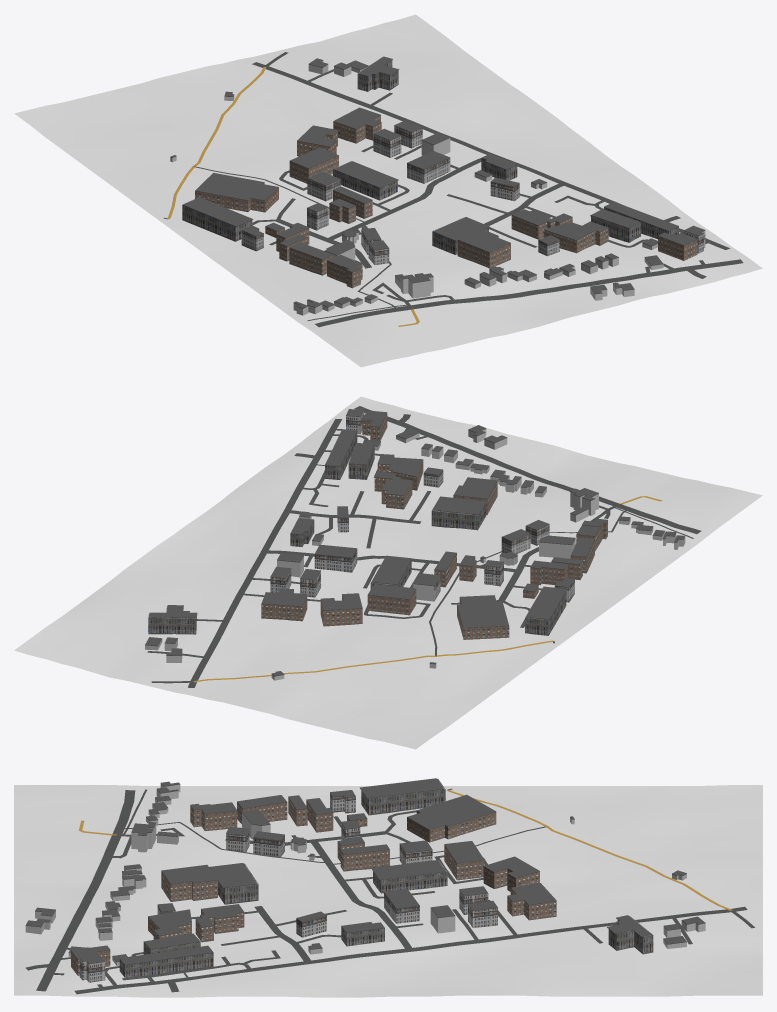
File: City_1.fbx
3 renders of one model, top to bottom at view 1: azimuth 30°, elevation 25°; view 2: azimuth 150°, elevation 25°; view 3: azimuth 270°, elevation 25°, orthographic. The views are drawn at different scales.
Visible parts, largest first — view 1: Terrain, map_3.osm_buildings, map_3.osm_roads_service, map_3.osm_roads_trunk, map_3.osm_roads_unclassified, map_3.osm_roads_tertiary, map_3.osm_roads_track; view 2: Terrain, map_3.osm_buildings, map_3.osm_roads_service, map_3.osm_roads_tertiary, map_3.osm_roads_trunk, map_3.osm_roads_unclassified, map_3.osm_roads_track; view 3: Terrain, map_3.osm_buildings, map_3.osm_roads_service, map_3.osm_roads_tertiary, map_3.osm_roads_trunk, map_3.osm_roads_unclassified, map_3.osm_roads_track, map_3.osm_paths_footway.
Boxes of the visible parts, x1=… form: Terrain: x1=14, y1=14, x2=762, y2=367; map_3.osm_buildings: x1=170, y1=56, x2=705, y2=315; map_3.osm_roads_service: x1=252, y1=52, x2=707, y2=307; map_3.osm_roads_trunk: x1=315, y1=259, x2=743, y2=327; map_3.osm_roads_unclassified: x1=276, y1=158, x2=706, y2=278; map_3.osm_roads_tertiary: x1=252, y1=62, x2=729, y2=249; map_3.osm_roads_track: x1=167, y1=67, x2=419, y2=326; Terrain: x1=14, y1=396, x2=762, y2=749; map_3.osm_buildings: x1=145, y1=408, x2=685, y2=680; map_3.osm_roads_service: x1=147, y1=426, x2=615, y2=683; map_3.osm_roads_tertiary: x1=188, y1=419, x2=341, y2=687; map_3.osm_roads_trunk: x1=354, y1=406, x2=701, y2=534; map_3.osm_roads_unclassified: x1=264, y1=414, x2=538, y2=600; map_3.osm_roads_track: x1=193, y1=496, x2=662, y2=682; Terrain: x1=14, y1=785, x2=762, y2=997; map_3.osm_buildings: x1=25, y1=778, x2=705, y2=982; map_3.osm_roads_service: x1=49, y1=810, x2=754, y2=988; map_3.osm_roads_tertiary: x1=74, y1=906, x2=747, y2=994; map_3.osm_roads_trunk: x1=36, y1=790, x2=135, y2=991; map_3.osm_roads_unclassified: x1=25, y1=831, x2=412, y2=992; map_3.osm_roads_track: x1=79, y1=790, x2=732, y2=910; map_3.osm_paths_footway: x1=120, y1=788, x2=546, y2=978.
Size of the model in its own units: 45489 by 2406 by 68029.
